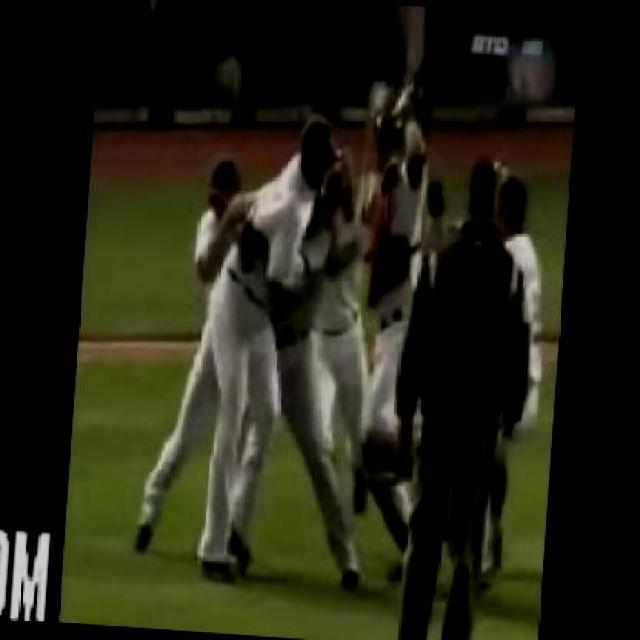fight: (169, 111, 371, 592)
